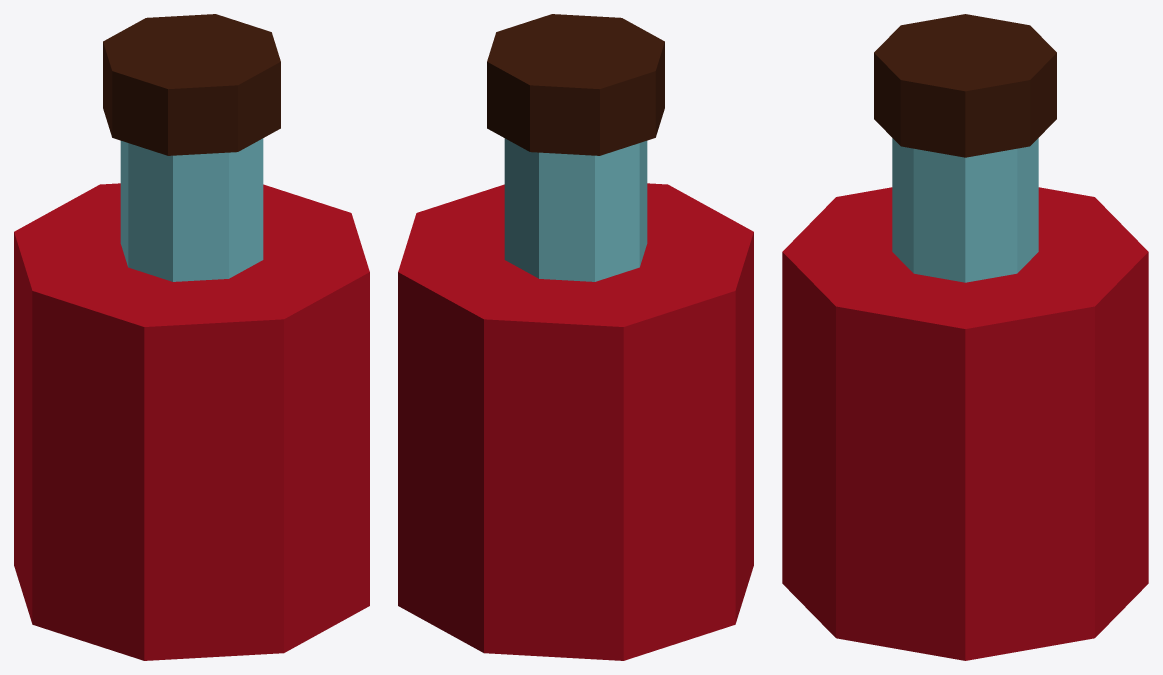
The model's file is potion_red.obj.
3 renders of one model, left to right at view 1: azimuth 30°, elevation 25°; view 2: azimuth 150°, elevation 25°; view 3: azimuth 270°, elevation 25°, orthographic.
Visible parts, largest first — view 1: potion_red; view 2: potion_red; view 3: potion_red.
Part boxes in pixels (left/top/right/bottom): potion_red: left=14, top=14, right=369, bottom=660; potion_red: left=398, top=14, right=753, bottom=660; potion_red: left=782, top=14, right=1148, bottom=660.
Size of the model in its own units: 0.3 by 0.48 by 0.3.
